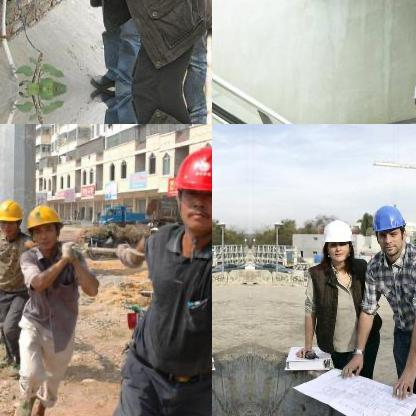Helmet: (164, 140, 211, 241), (22, 200, 62, 249), (370, 204, 404, 254), (320, 218, 350, 260), (0, 194, 23, 242)
